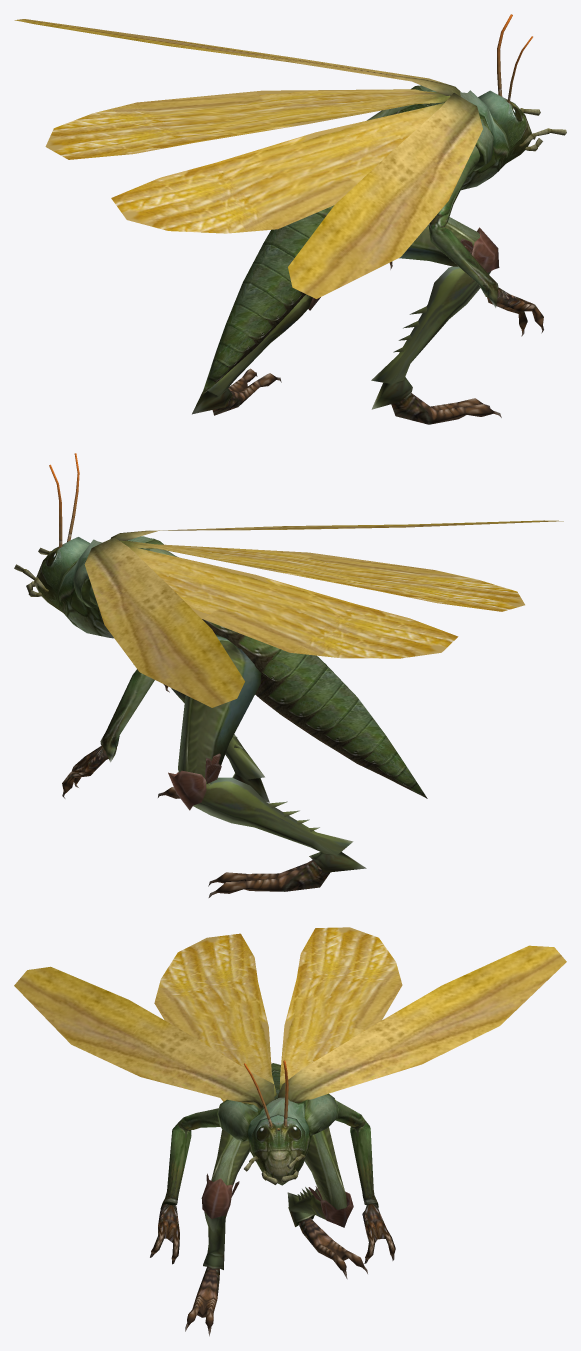
The model's file is Grass Strider.fbx.
The picture shows the model from 3 angles, top to bottom: view 1: azimuth 30°, elevation 25°; view 2: azimuth 150°, elevation 25°; view 3: azimuth 270°, elevation 25°; orthographic projection. The views are drawn at different scales.
Visible parts, largest first — view 1: Body; view 2: Body; view 3: Body.
Boxes of the visible parts, box(x1,y1,x2,y2) form: Body: box(14, 14, 566, 424); Body: box(14, 453, 563, 897); Body: box(14, 927, 566, 1336).
Bounding box in the file's own units: 3066 × 2214 × 3659.
Materials: 1 (1 with a texture image).
